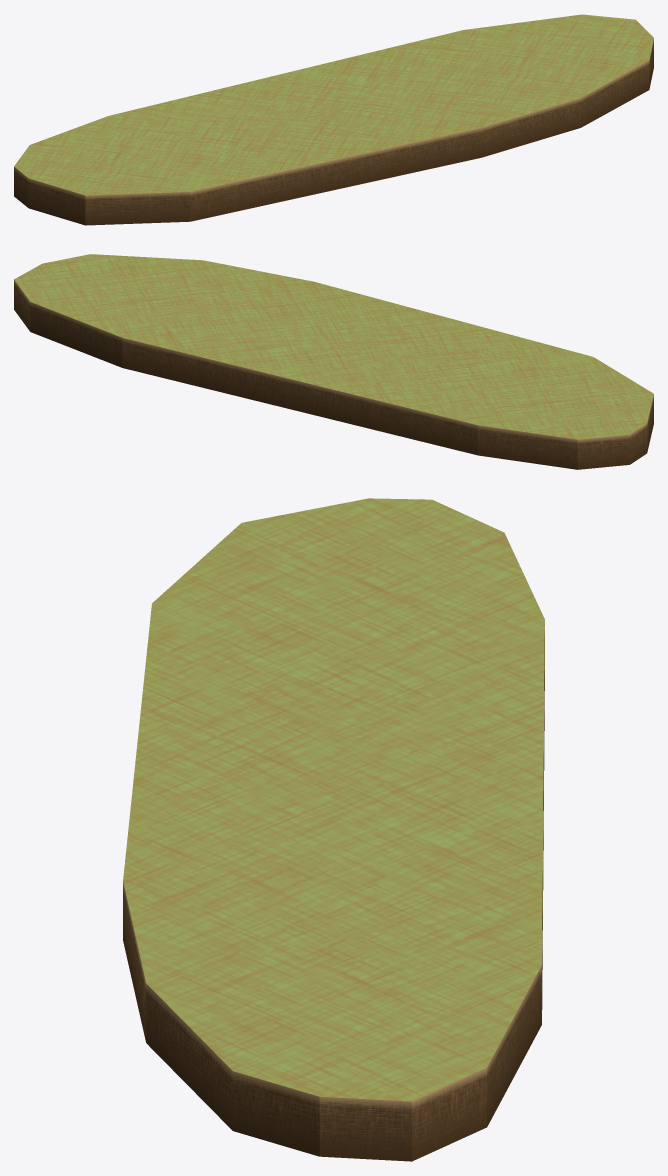
Rendered from Terrain05_D.FBX.
3 views of the same model, one above another, from view 1: azimuth 30°, elevation 25°; view 2: azimuth 150°, elevation 25°; view 3: azimuth 270°, elevation 25° (orthographic). The views are drawn at different scales.
Visible parts, largest first — view 1: Terrain05_D; view 2: Terrain05_D; view 3: Terrain05_D.
Part boxes in pixels (box(x1,y1,x2,y2)): Terrain05_D: box(14, 14, 653, 225); Terrain05_D: box(14, 254, 653, 469); Terrain05_D: box(123, 498, 544, 1161).
Bounding box in the file's own units: 1091 × 50.55 × 322.
1 material, 1 textured.
